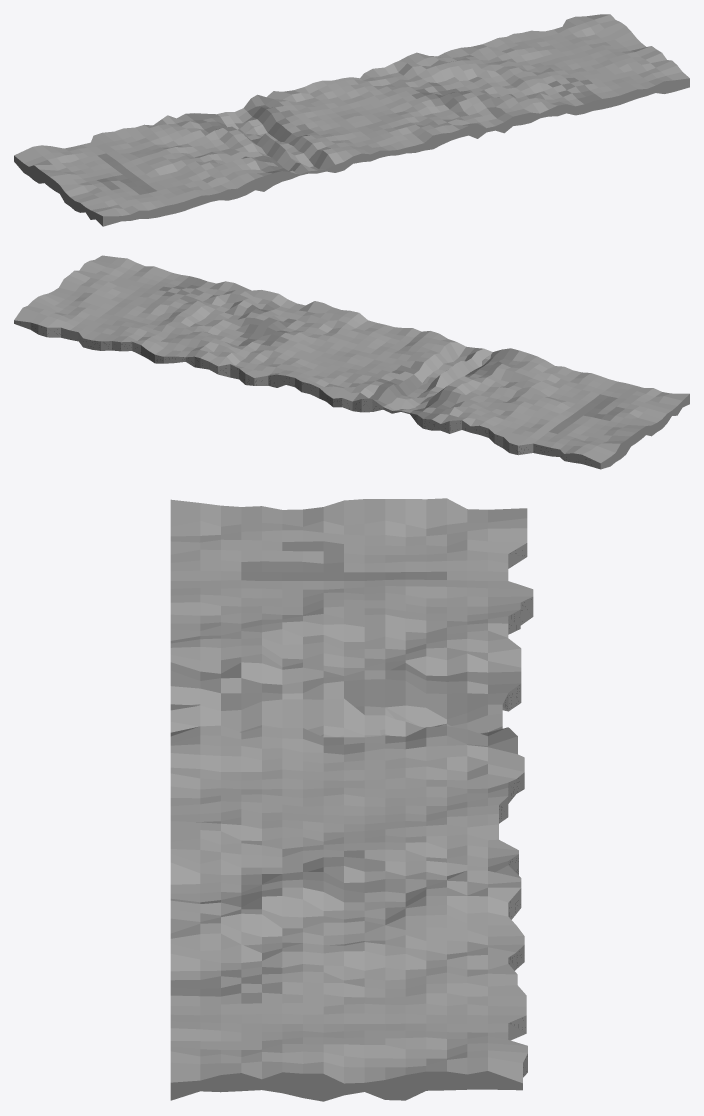
The model's file is right_wall_template.fbx.
3 renders of one model, top to bottom at view 1: azimuth 30°, elevation 25°; view 2: azimuth 150°, elevation 25°; view 3: azimuth 270°, elevation 25°, orthographic. The views are drawn at different scales.
Parts seen in each view (by area): view 1: Grid; view 2: Grid; view 3: Grid.
Part boxes in pixels (x1,y1,x2,y2): Grid: (14, 14, 689, 226); Grid: (14, 255, 689, 469); Grid: (170, 498, 533, 1101).
Bounding box in the file's own units: 8.25 × 0.2275 × 2.2.
2 materials, 2 textured.
